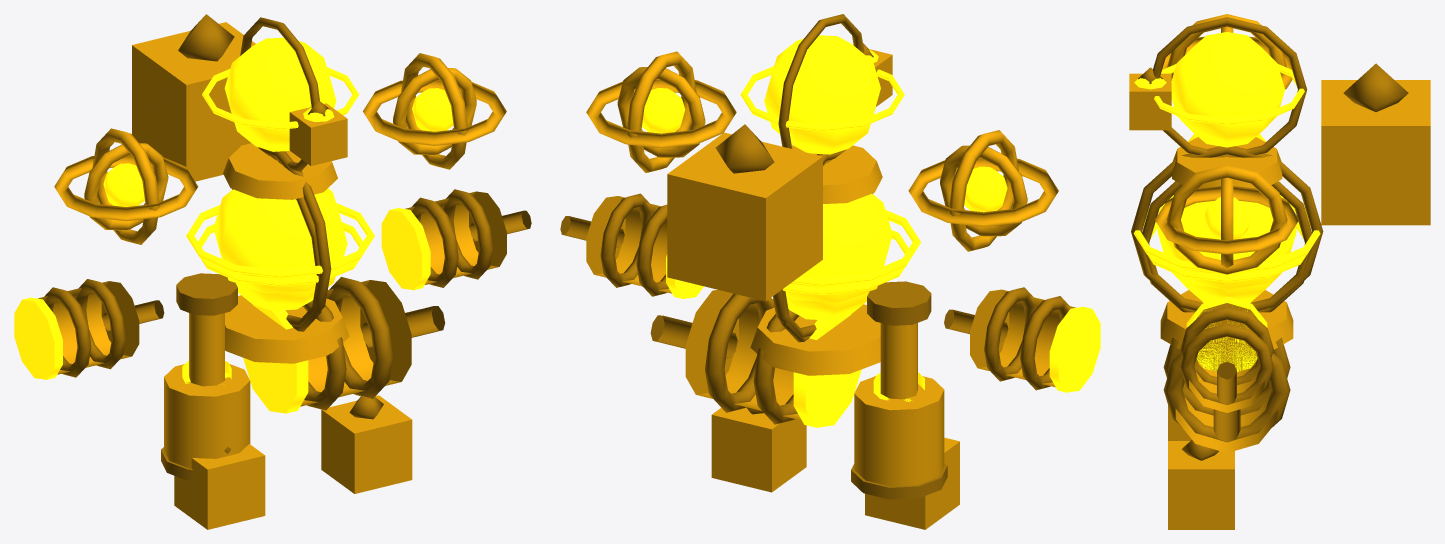
The model's file is golem_144.glb.
The picture shows the model from 3 angles, left to right: view 1: azimuth 30°, elevation 25°; view 2: azimuth 150°, elevation 25°; view 3: azimuth 270°, elevation 25°; orthographic projection. The views are drawn at different scales.
Parts seen in each view (by area): view 1: Body, Glow, Detail; view 2: Body, Glow, Detail; view 3: Body, Detail, Glow.
Boxes of the visible parts, left/top/right/bottom form: Body: left=37, top=22, right=506, bottom=529; Glow: left=14, top=37, right=453, bottom=413; Detail: left=44, top=14, right=531, bottom=480; Body: left=586, top=49, right=1075, bottom=529; Glow: left=642, top=35, right=1100, bottom=427; Detail: left=560, top=14, right=1069, bottom=499; Body: left=1129, top=14, right=1430, bottom=529; Detail: left=1131, top=17, right=1408, bottom=460; Glow: left=1133, top=32, right=1320, bottom=371.
Bounding box in the file's own units: 1.54 × 1.38 × 0.8149.
